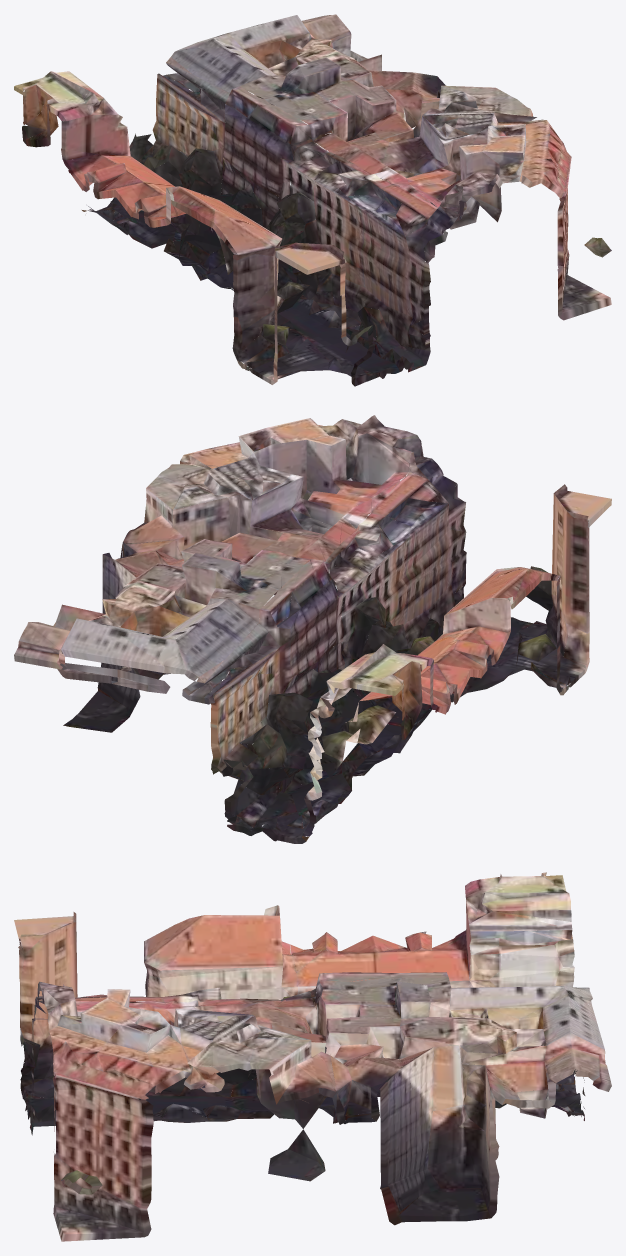
The picture shows the model from 3 angles, top to bottom: view 1: azimuth 30°, elevation 25°; view 2: azimuth 150°, elevation 25°; view 3: azimuth 270°, elevation 25°; orthographic projection. The views are drawn at different scales.
Parts seen in each view (by area): view 1: Mesh_0; view 2: Mesh_0; view 3: Mesh_0.
Boxes of the visible parts, bbox=[...] form: Mesh_0: bbox=[14, 14, 611, 386]; Mesh_0: bbox=[14, 415, 611, 843]; Mesh_0: bbox=[14, 872, 611, 1241].
Size of the model in its own units: 66.56 by 30.19 by 82.58.
Materials: 2 (2 with a texture image).
